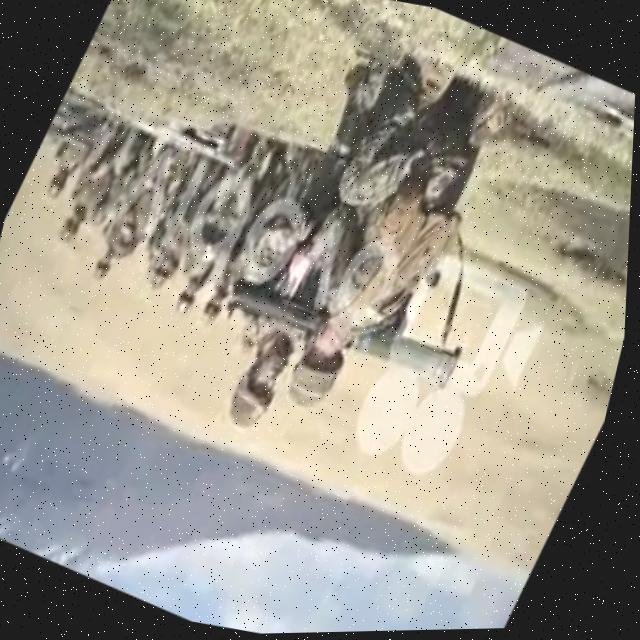rocket: (213, 253, 480, 411)
